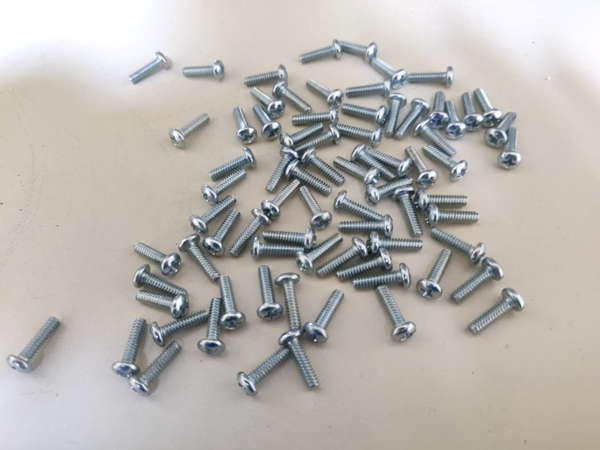shortscrew: (129, 341, 182, 397), (7, 317, 59, 374), (467, 288, 525, 336), (278, 329, 321, 392), (238, 347, 292, 396), (451, 257, 505, 305), (376, 286, 417, 343), (431, 227, 487, 266), (304, 290, 345, 343), (178, 234, 221, 284), (229, 208, 272, 258), (151, 311, 209, 348), (112, 318, 147, 379), (317, 237, 369, 278), (415, 249, 453, 301), (190, 195, 238, 236), (203, 209, 241, 259), (300, 146, 346, 187), (337, 248, 393, 281), (201, 167, 249, 205), (284, 159, 333, 196), (422, 143, 468, 182), (134, 265, 188, 298), (414, 118, 458, 158), (352, 143, 398, 181), (335, 190, 387, 223), (209, 147, 258, 182), (262, 179, 302, 221), (133, 243, 182, 277), (392, 186, 424, 238), (134, 290, 189, 320), (394, 98, 431, 142), (363, 146, 413, 178), (265, 147, 299, 194), (353, 263, 412, 290), (218, 275, 246, 331), (198, 298, 225, 356), (275, 273, 302, 331), (299, 185, 333, 231), (405, 145, 439, 188), (333, 156, 381, 186), (258, 266, 284, 321), (129, 52, 171, 86), (170, 115, 210, 150), (365, 177, 415, 205), (272, 82, 313, 116), (368, 231, 424, 255), (294, 124, 341, 152), (425, 204, 480, 227), (484, 111, 518, 148), (337, 215, 394, 237), (473, 88, 503, 129), (280, 123, 325, 150), (338, 124, 384, 149), (299, 39, 343, 65), (306, 79, 344, 109), (251, 88, 285, 120), (342, 103, 389, 126), (371, 60, 407, 90), (253, 105, 282, 142), (498, 127, 522, 171), (384, 94, 408, 138), (409, 66, 455, 88), (233, 106, 258, 146), (244, 64, 287, 87), (345, 78, 392, 99), (445, 98, 467, 141), (461, 92, 484, 131), (428, 91, 450, 129), (184, 60, 225, 80), (339, 40, 378, 61)
